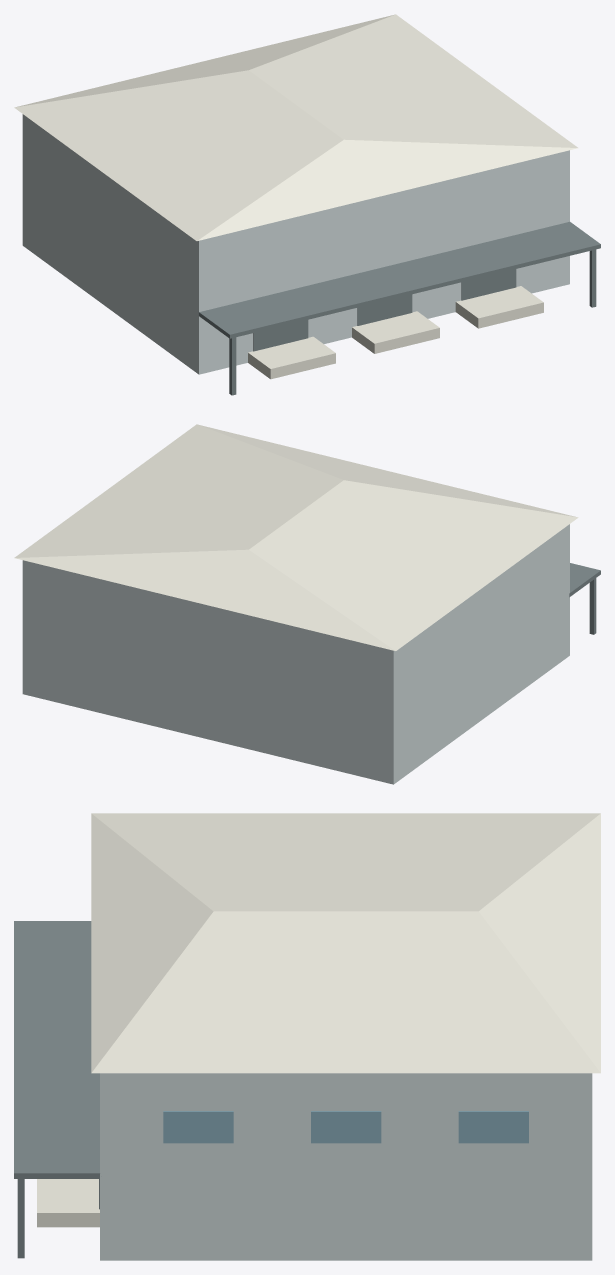
3 views of the same model, one above another, from view 1: azimuth 30°, elevation 25°; view 2: azimuth 150°, elevation 25°; view 3: azimuth 270°, elevation 25° (orthographic). The views are drawn at different scales.
Size of the model in its own units: 35 by 14 by 33.4.
